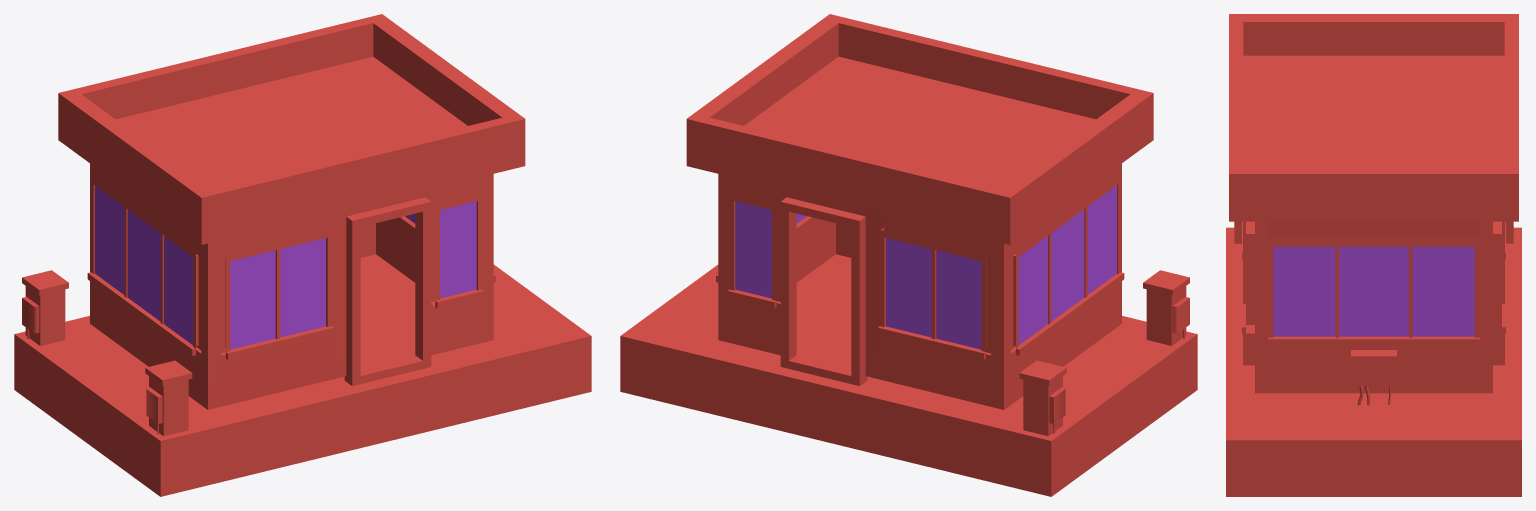
Rendered from InsideBuilding.fbx.
The picture shows the model from 3 angles, left to right: view 1: azimuth 30°, elevation 25°; view 2: azimuth 150°, elevation 25°; view 3: azimuth 270°, elevation 25°; orthographic projection.
Parts seen in each view (by area): view 1: Cube.001; view 2: Cube.001; view 3: Cube.001.
Boxes of the visible parts, x1,y1,x2,y2 form: Cube.001: [14, 14, 591, 496]; Cube.001: [620, 14, 1197, 496]; Cube.001: [1226, 14, 1521, 496].
Bounding box in the file's own units: 622 × 396 × 365.
